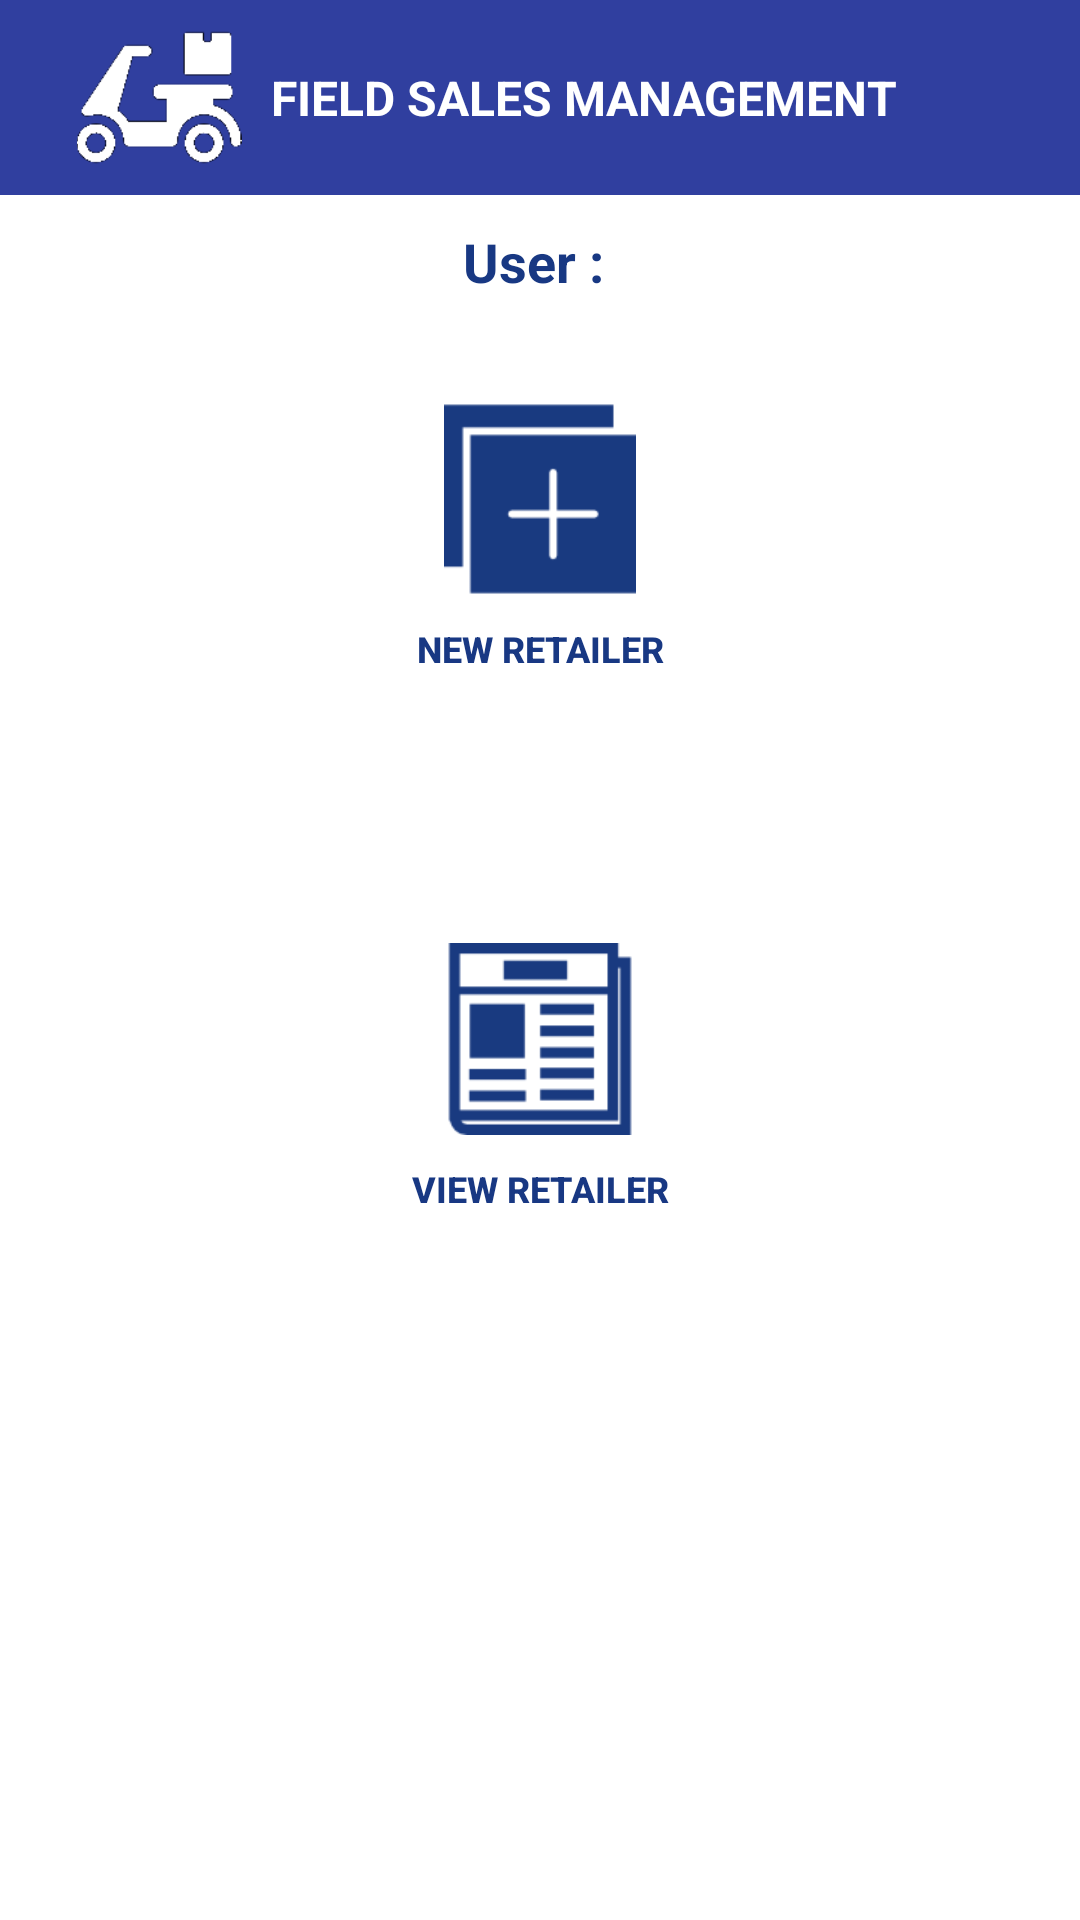

Locate icon controls on the screen. Image size 1080 x 1920, boxes as bbox=(x1, y1, x2, y2).
biker: bbox=(77, 32, 242, 163)
